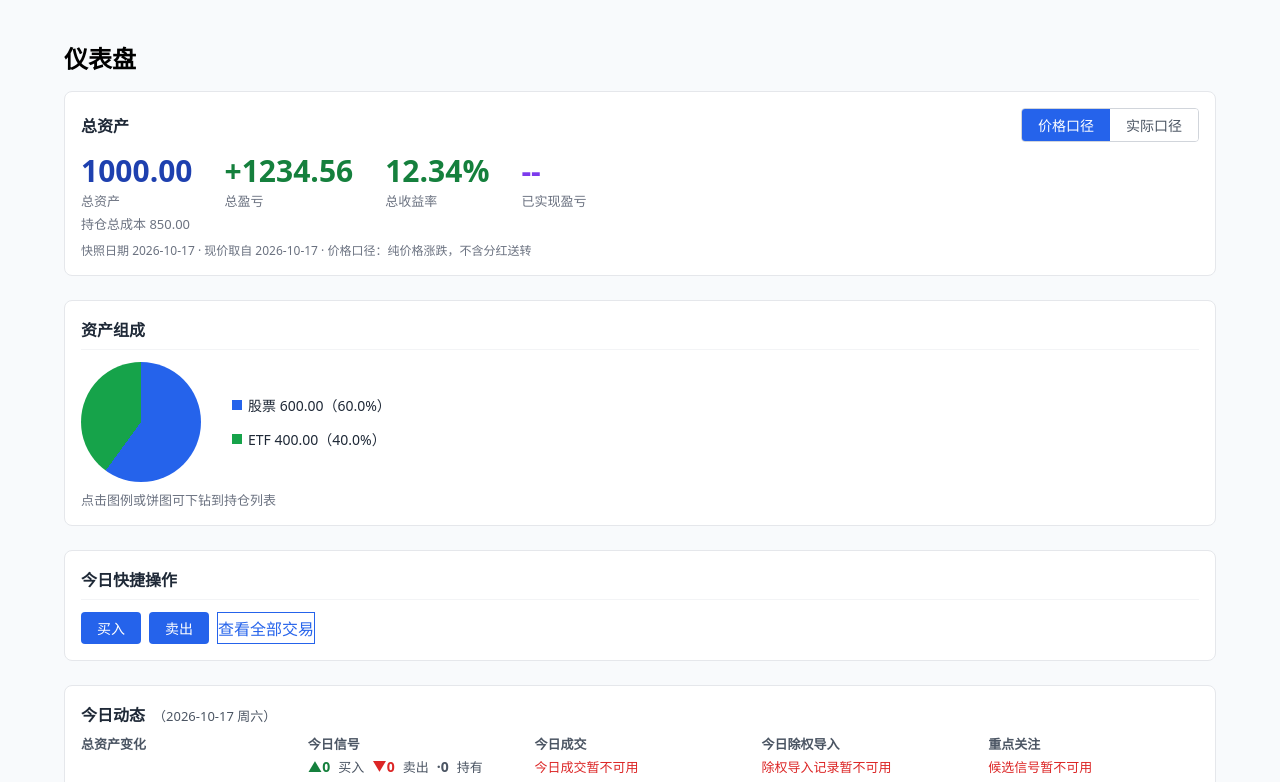
it: F-D6 · 资产组成饼图点击下钻 › F-D6 饼图下钻：点击「股票」图例后持仓列表只剩股票标的
Expected: the text "总盈亏" is shown, [224,192,264,210]
Click the button "股票 600.00（60.0%）" at (311, 405), box [225,392,398,418]
(page scrolled)
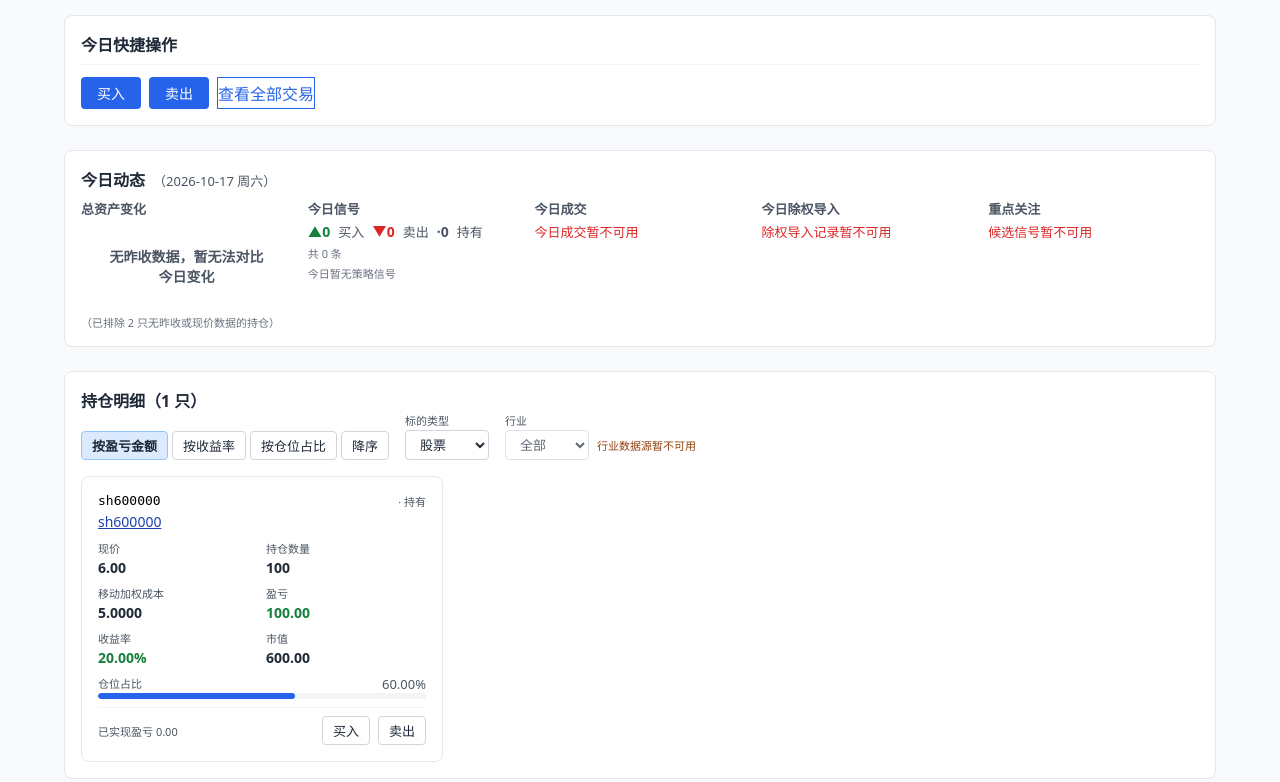
Expected: the text "持仓明细（1 只）" is shown, [81,390,206,412]
